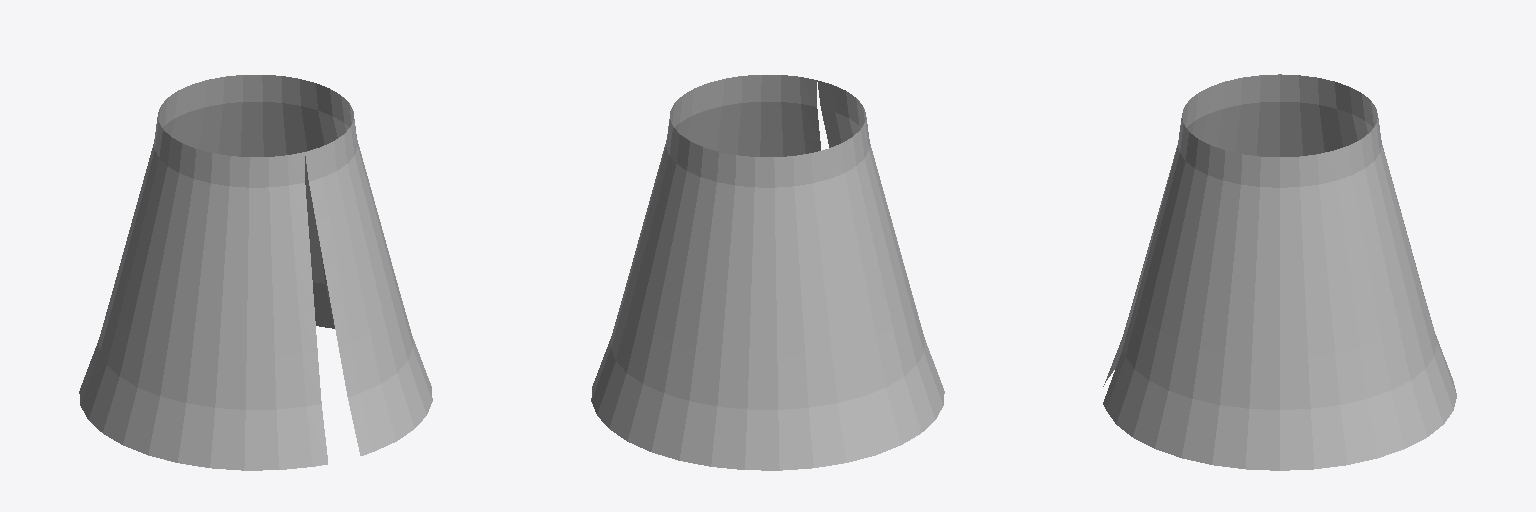
File: character_cloak.obj
3 views of the same model, side by side, from view 1: azimuth 30°, elevation 25°; view 2: azimuth 150°, elevation 25°; view 3: azimuth 270°, elevation 25° (orthographic).
Visible parts, largest first — view 1: Cylinder.003; view 2: Cylinder.003; view 3: Cylinder.003.
Part boxes in pixels (x1,y1,x2,y2): Cylinder.003: (79,75,432,470); Cylinder.003: (591,75,944,470); Cylinder.003: (1103,74,1456,470).
Size of the model in its own units: 3.6 by 3.14 by 3.6.